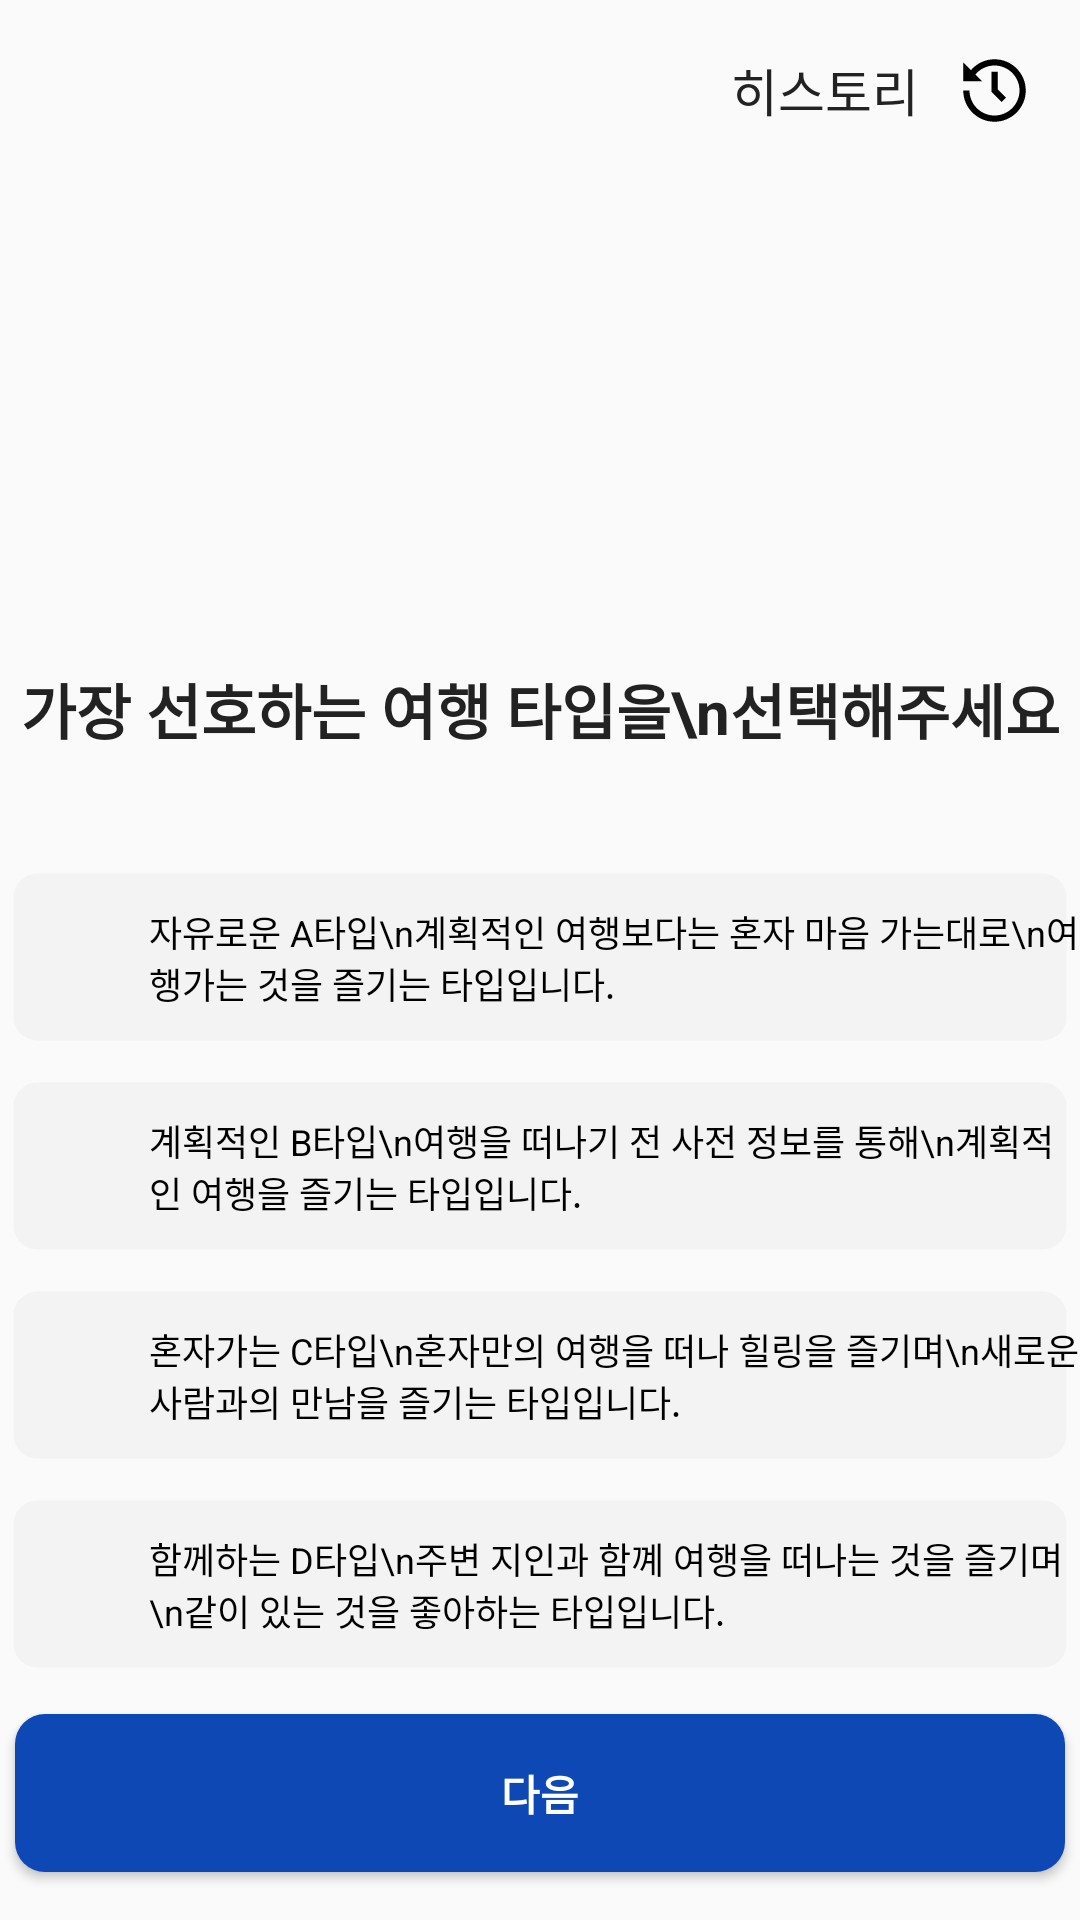

Icons on this 1080px×1920px Android screen, each with the point to tap as point (x, y):
history: point (994, 90)
